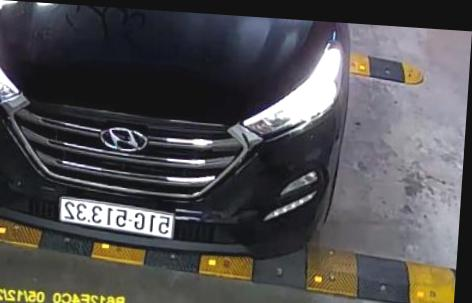License_Plate: (55, 195, 183, 240)
